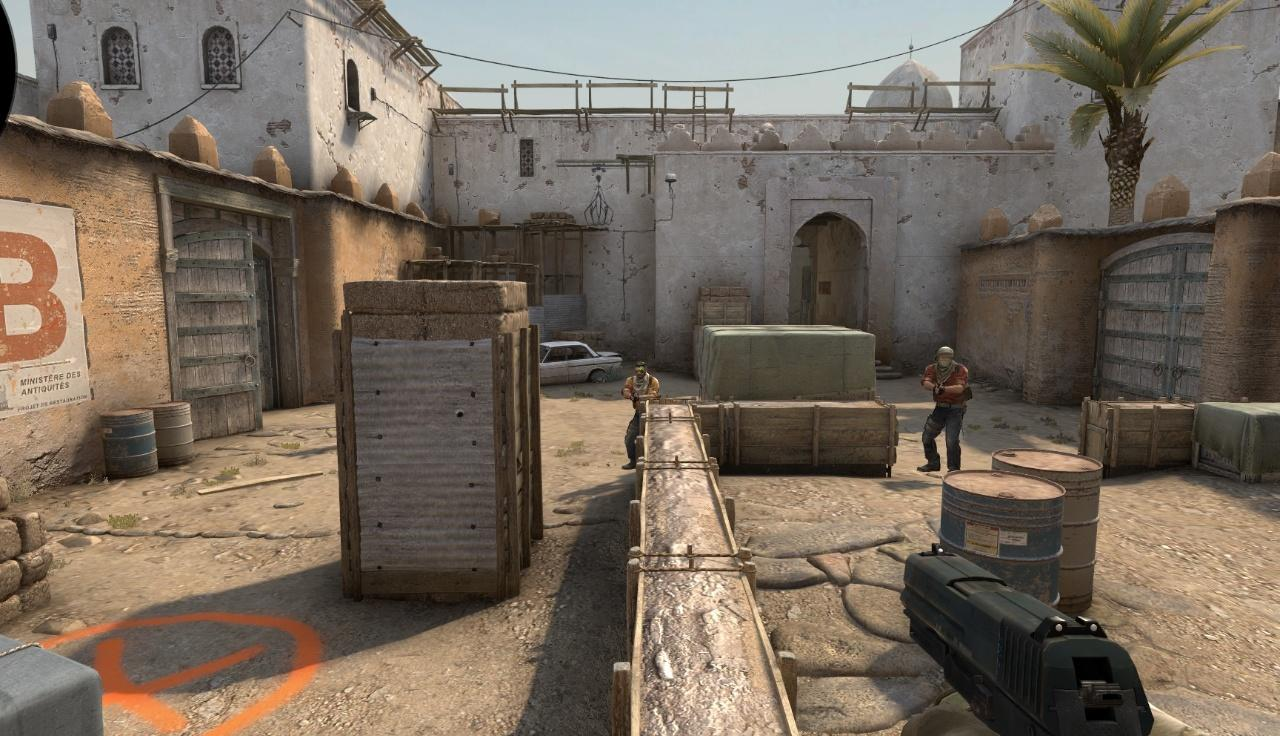pistol: (900, 542, 1217, 736)
tt: (920, 347, 971, 476), (621, 360, 660, 470)
tthead: (937, 346, 954, 370), (635, 360, 647, 381)
